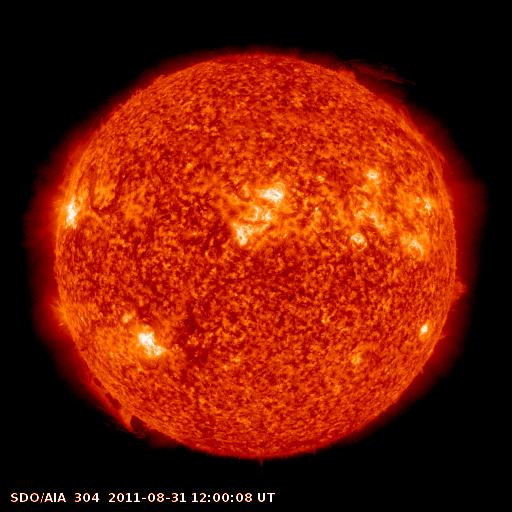prominence: (370, 86, 455, 187), (72, 349, 156, 440), (331, 47, 410, 87), (58, 121, 104, 182), (443, 273, 474, 311)
